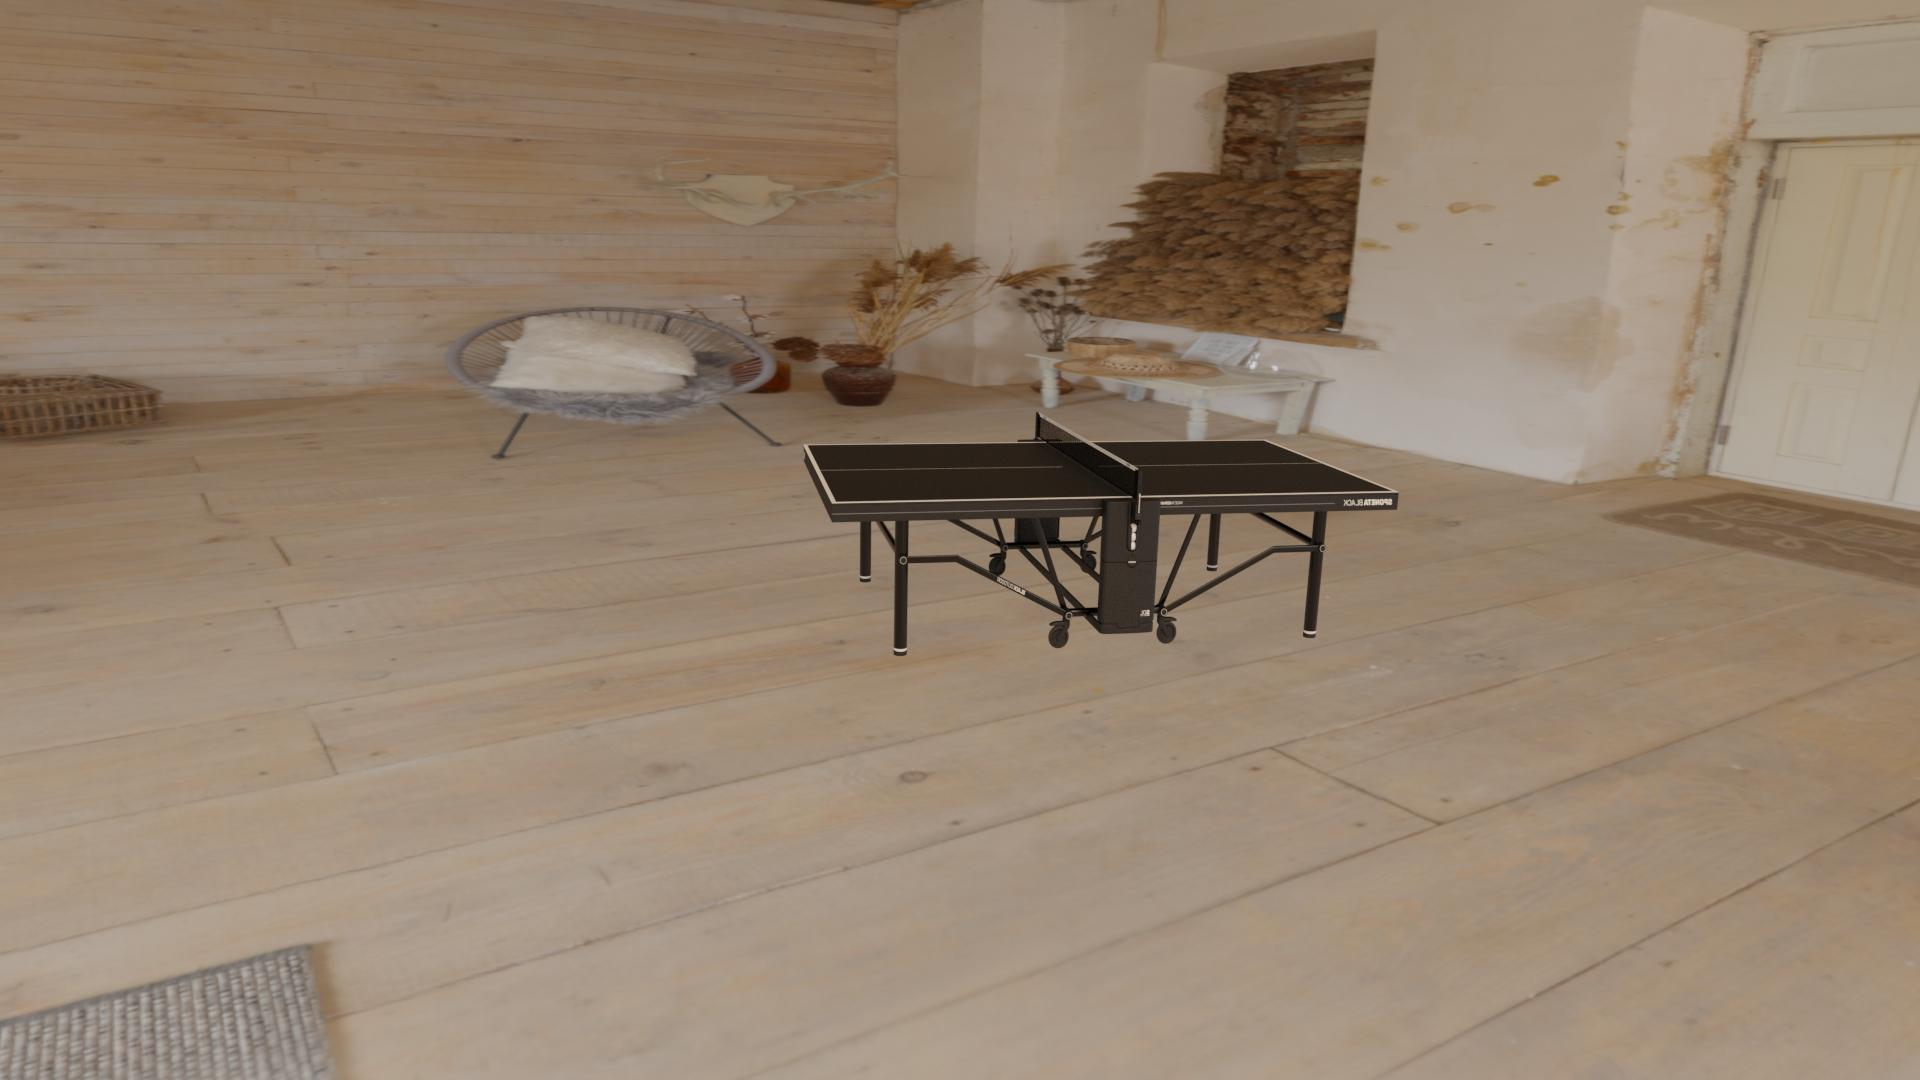table: (807, 440, 1393, 502)
